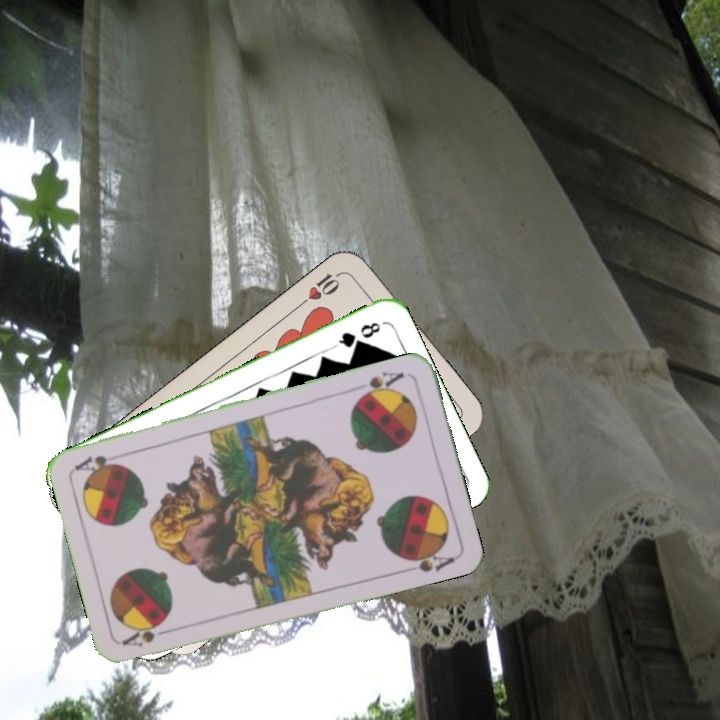G8: (330, 318, 383, 351)
H10: (295, 267, 346, 309)
SA: (119, 617, 177, 650), (354, 367, 407, 402)
